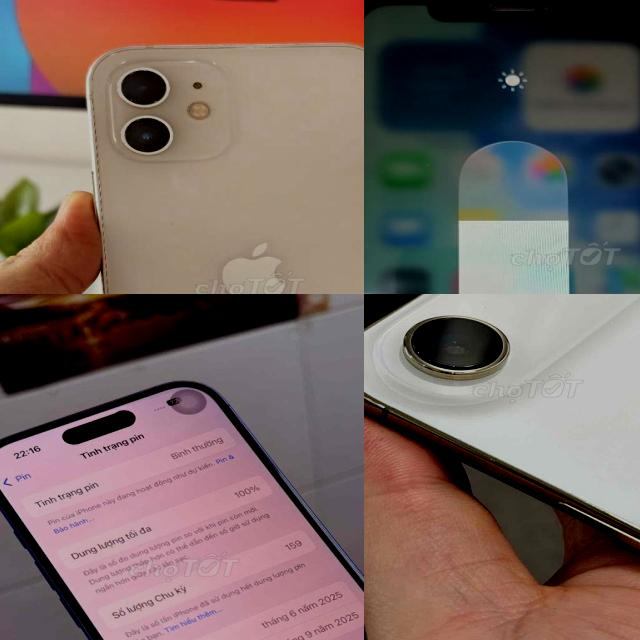gen_11: (364, 0, 640, 294)
gen_12_13: (83, 43, 364, 294)
gen_16: (0, 382, 364, 640)
gen_17: (364, 294, 640, 640)
